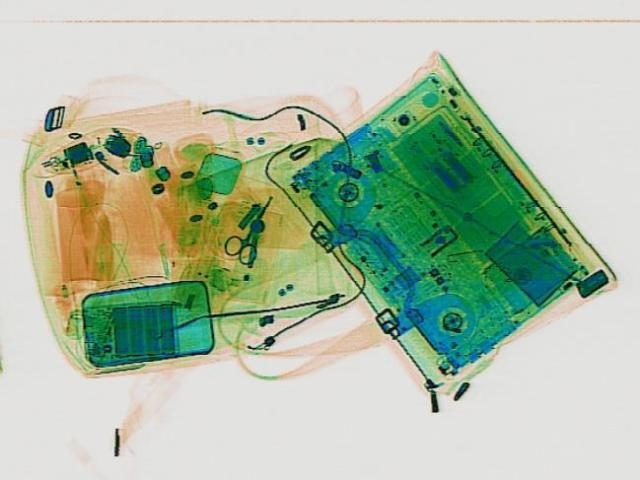Scissors: (214, 185, 292, 263)
